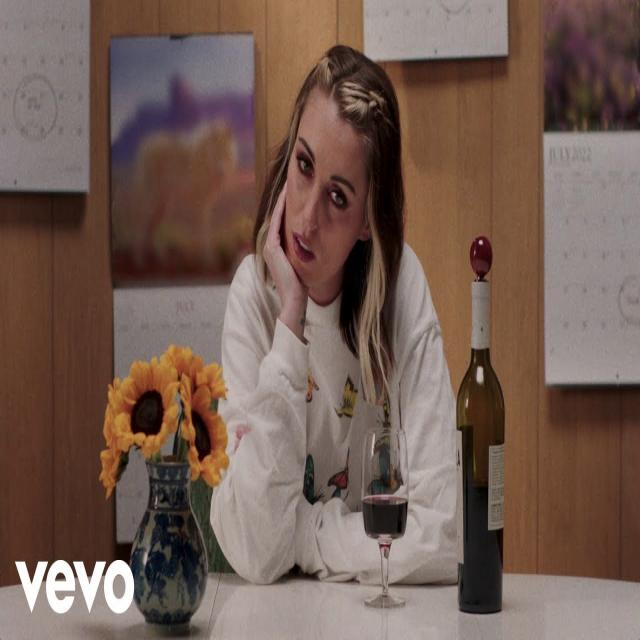adult: (211, 45, 458, 588)
